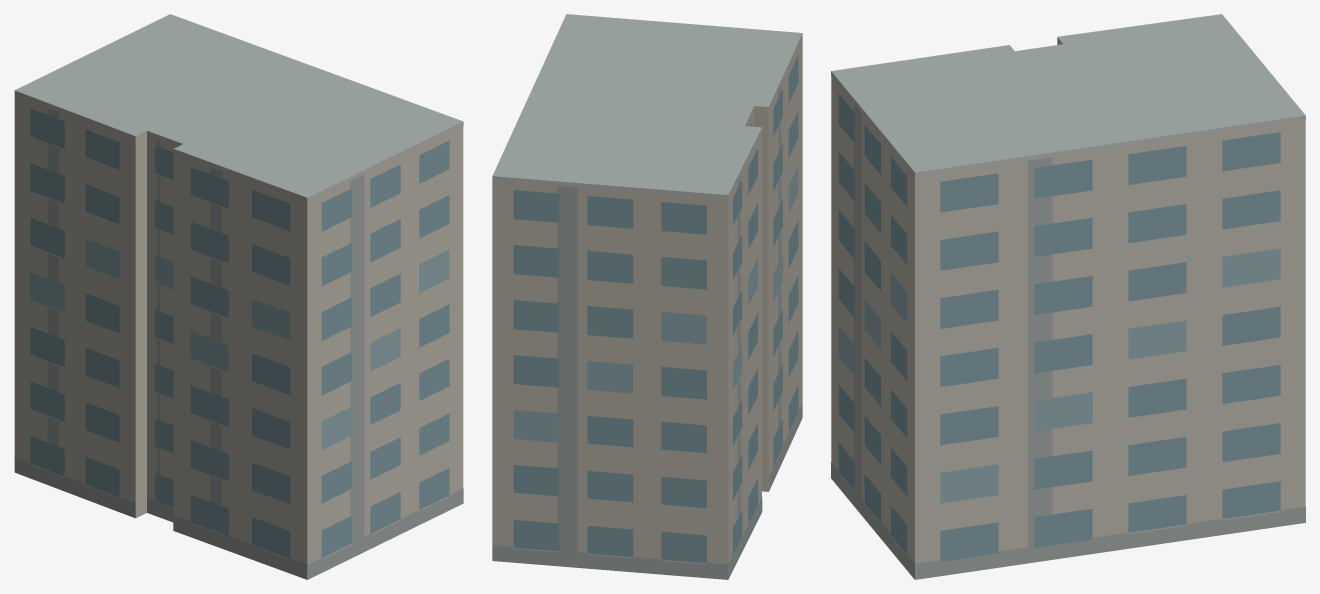
File: survey-upis-32737993.glb
3 views of the same model, side by side, from view 1: azimuth 30°, elevation 25°; view 2: azimuth 150°, elevation 25°; view 3: azimuth 270°, elevation 25° (orthographic). The views are drawn at different scales.
Visible parts, largest first — view 1: survey-upis-32737993.tmp; view 2: survey-upis-32737993.tmp; view 3: survey-upis-32737993.tmp.
Part boxes in pixels (<box>): survey-upis-32737993.tmp: <box>14,14,463,579</box>; survey-upis-32737993.tmp: <box>492,14,802,579</box>; survey-upis-32737993.tmp: <box>831,14,1305,579</box>.
Bounding box in the file's own units: 17.04 × 20.4 × 21.55.
